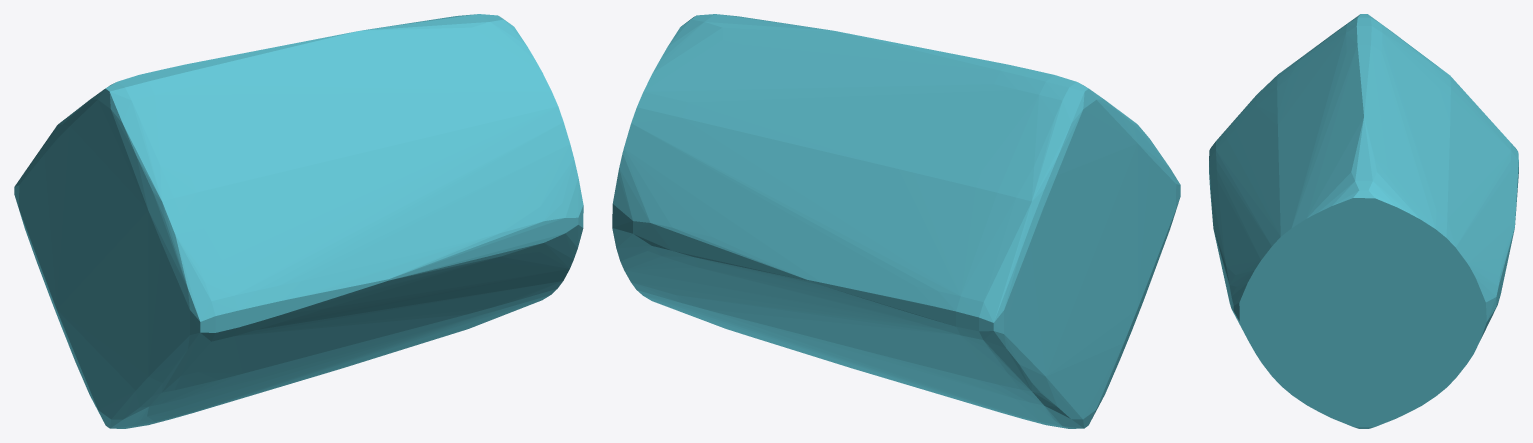
3 renders of one model, left to right at view 1: azimuth 30°, elevation 25°; view 2: azimuth 150°, elevation 25°; view 3: azimuth 270°, elevation 25°, orthographic. The views are drawn at different scales.
Bounding box in the file's own units: 0.0267 × 0.0217 × 0.0216.
